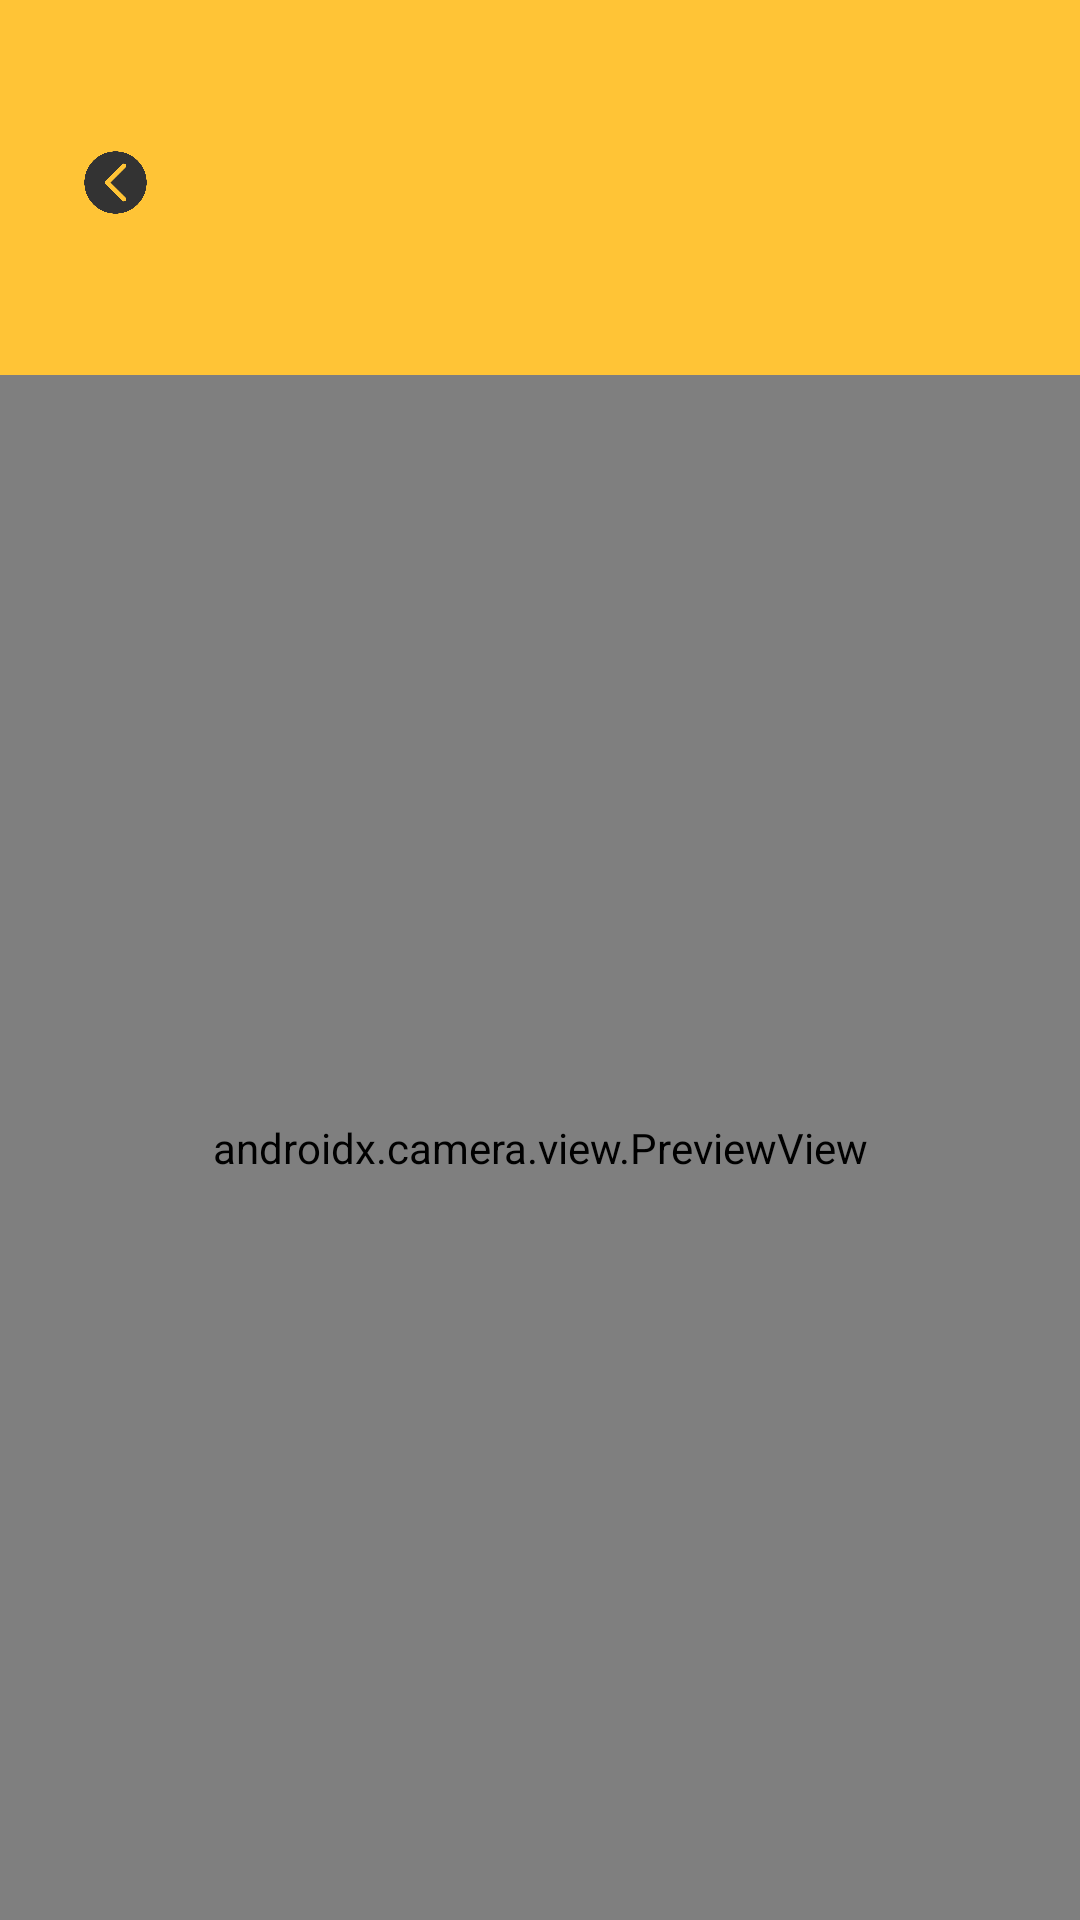

Named icons in this screenshot (1080*1920) and their bounding boxes, (x1, y1, x2, y2):
back: (84, 151, 147, 214)
